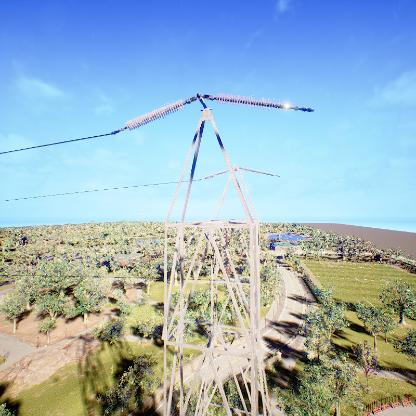insulator: (124, 98, 186, 132), (215, 91, 291, 112), (200, 166, 233, 181), (241, 165, 276, 178)
